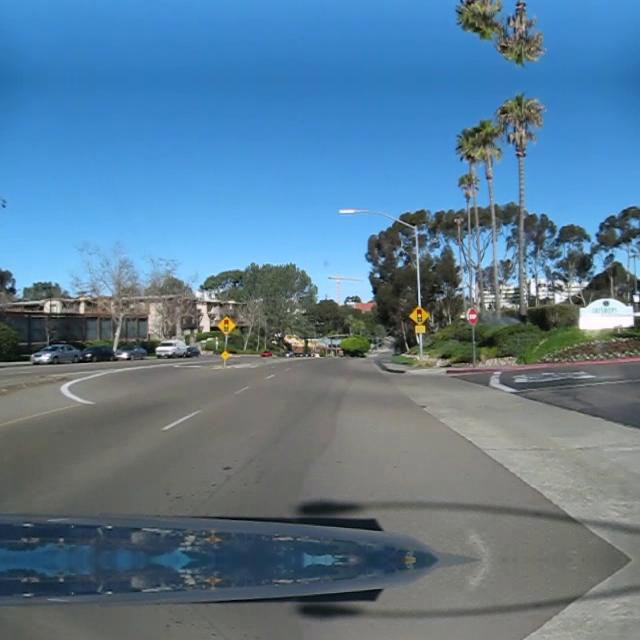signalAhead: (216, 314, 237, 336), (408, 304, 428, 324)
stop: (467, 306, 479, 326)
